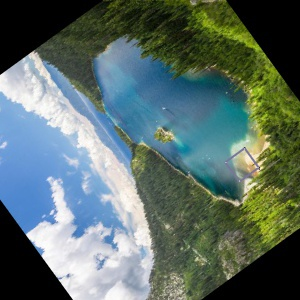square: (223, 144, 262, 183)
